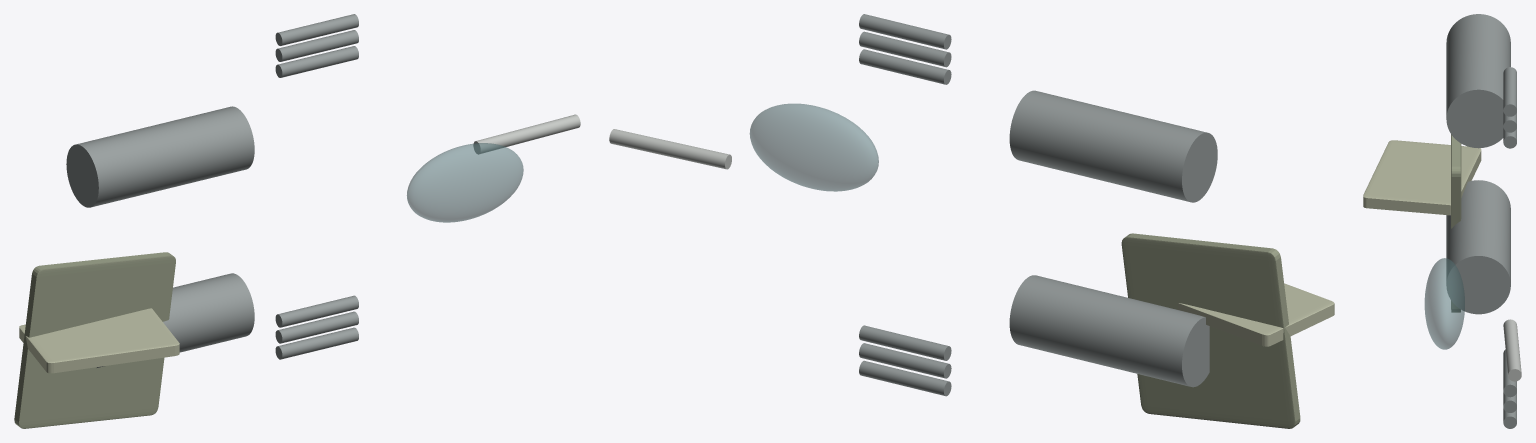
The model's file is v-u24-vanguard-light-gunship-lod2.glb.
3 renders of one model, left to right at view 1: azimuth 30°, elevation 25°; view 2: azimuth 150°, elevation 25°; view 3: azimuth 270°, elevation 25°, orthographic. The views are drawn at different scales.
Parts seen in each view (by area): view 1: combat_tailplane_-1, combat_engine_1, combat_canopy, combat_fin_-1, combat_engine_0, combat_gun_barrel_0, combat_1_tube_1, combat_1_tube_2, combat_1_tube_3, combat_-1_tube_1, combat_-1_tube_2, combat_-1_tube_3; view 2: combat_tailplane_-1, combat_engine_1, combat_engine_0, combat_canopy, combat_fin_-1, combat_gun_barrel_0, combat_1_tube_1, combat_-1_tube_2, combat_1_tube_3, combat_-1_tube_1, combat_-1_tube_3, combat_1_tube_2; view 3: combat_engine_1, combat_engine_0, combat_fin_-1, combat_canopy, combat_tailplane_-1, combat_gun_barrel_0, combat_1_tube_3, combat_-1_tube_3, combat_1_tube_2, combat_1_tube_1, combat_-1_tube_1, combat_-1_tube_2.
Boxes of the visible parts, bbox=[...] form: combat_tailplane_-1: bbox=[14, 252, 175, 428]; combat_engine_1: bbox=[66, 106, 254, 207]; combat_canopy: bbox=[407, 143, 523, 222]; combat_fin_-1: bbox=[19, 308, 179, 373]; combat_engine_0: bbox=[96, 273, 254, 367]; combat_gun_barrel_0: bbox=[473, 114, 580, 154]; combat_1_tube_1: bbox=[275, 46, 358, 77]; combat_1_tube_2: bbox=[275, 30, 358, 61]; combat_1_tube_3: bbox=[275, 14, 358, 45]; combat_-1_tube_1: bbox=[275, 327, 358, 359]; combat_-1_tube_2: bbox=[275, 311, 358, 343]; combat_-1_tube_3: bbox=[275, 295, 358, 327]; combat_tailplane_-1: bbox=[1121, 233, 1300, 428]; combat_engine_1: bbox=[1009, 90, 1217, 202]; combat_engine_0: bbox=[1009, 275, 1209, 387]; combat_canopy: bbox=[749, 103, 878, 191]; combat_fin_-1: bbox=[1177, 283, 1334, 346]; combat_gun_barrel_0: bbox=[609, 129, 731, 169]; combat_1_tube_1: bbox=[859, 49, 951, 84]; combat_-1_tube_2: bbox=[859, 343, 951, 378]; combat_1_tube_3: bbox=[859, 14, 951, 49]; combat_-1_tube_1: bbox=[859, 360, 951, 396]; combat_-1_tube_3: bbox=[859, 325, 951, 360]; combat_1_tube_2: bbox=[859, 31, 951, 67]; combat_engine_1: bbox=[1446, 14, 1510, 148]; combat_engine_0: bbox=[1446, 180, 1510, 314]; combat_fin_-1: bbox=[1363, 140, 1481, 215]; combat_canopy: bbox=[1424, 258, 1464, 349]; combat_tailplane_-1: bbox=[1451, 134, 1461, 312]; combat_gun_barrel_0: bbox=[1503, 319, 1521, 381]; combat_1_tube_3: bbox=[1503, 67, 1516, 116]; combat_-1_tube_3: bbox=[1503, 349, 1516, 397]; combat_1_tube_2: bbox=[1503, 112, 1516, 132]; combat_1_tube_1: bbox=[1503, 128, 1516, 148]; combat_-1_tube_1: bbox=[1503, 408, 1516, 428]; combat_-1_tube_2: bbox=[1503, 392, 1516, 412].
Size of what is drawn, in the model's own units: 12.21 by 6.43 by 2.85.
